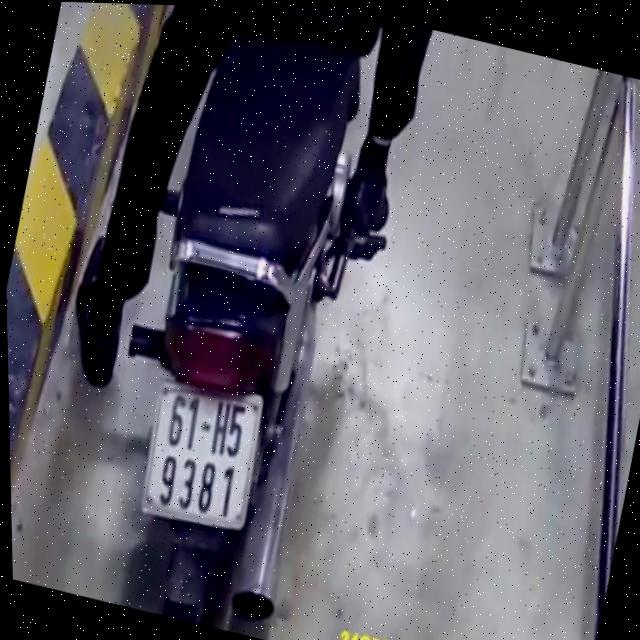motorcycle: (70, 2, 421, 640)
plate: (121, 361, 279, 537)
